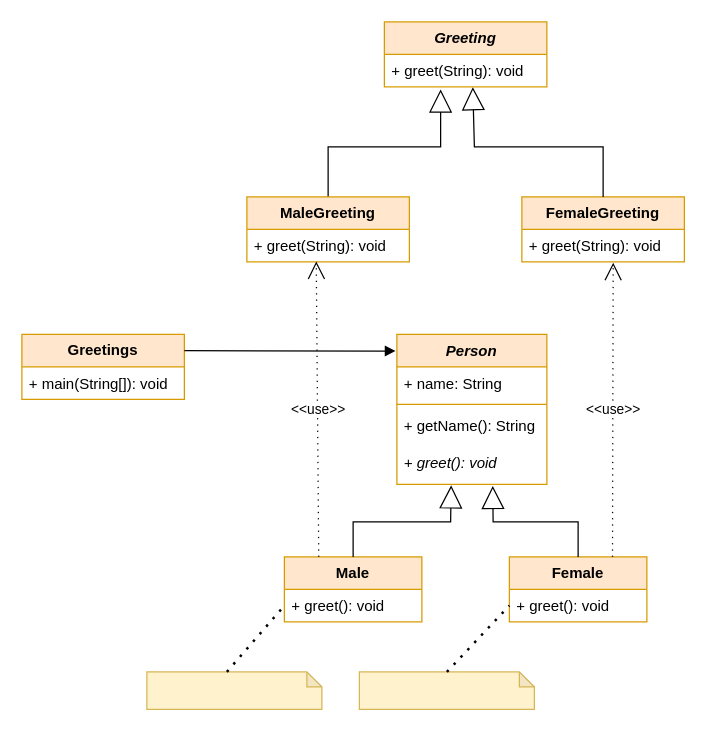
Image size: 706x731. Some labels were removed from this diagram. Each missing label, with the centre of its shape:
"FemaleGreeting.greet()" goes at point 446,690.
"MaleGreeting.greet()" goes at point 234,690.
